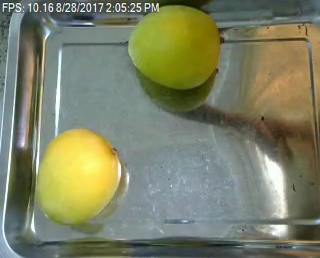Mango: (35, 127, 123, 228), (127, 2, 223, 92)
